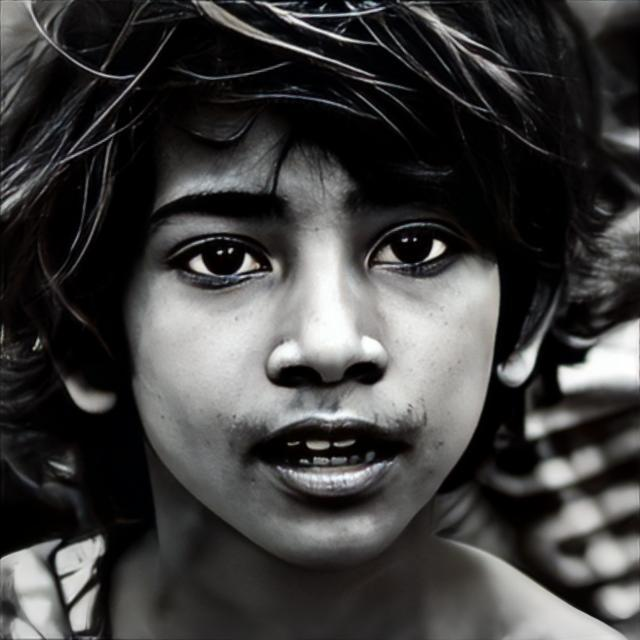surprise: (116, 96, 502, 570)
